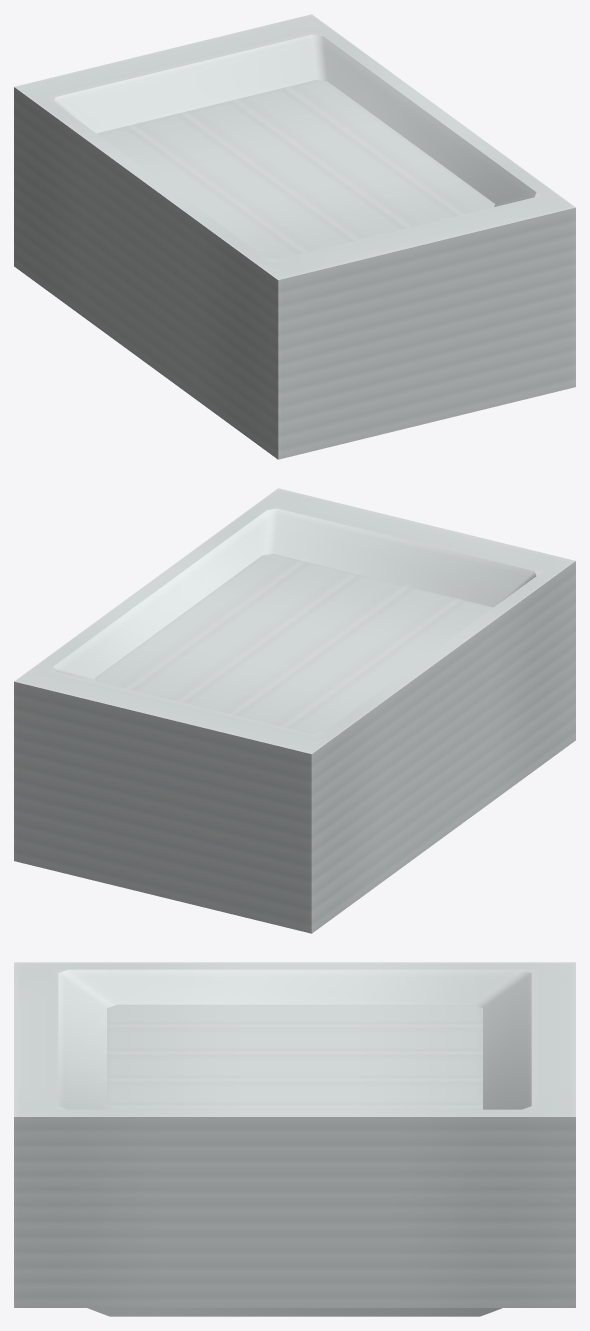
The model's file is jsf_PlasticTray_02_Set.fbx.
3 views of the same model, one above another, from view 1: azimuth 30°, elevation 25°; view 2: azimuth 150°, elevation 25°; view 3: azimuth 270°, elevation 25° (orthographic). The views are drawn at different scales.
Visible parts, largest first — view 1: jsf_PlasticTray_02_Set; view 2: jsf_PlasticTray_02_Set; view 3: jsf_PlasticTray_02_Set.
Boxes of the visible parts, bbox=[...] form: jsf_PlasticTray_02_Set: bbox=[14, 14, 575, 459]; jsf_PlasticTray_02_Set: bbox=[14, 488, 575, 933]; jsf_PlasticTray_02_Set: bbox=[14, 962, 575, 1316].
Size of the model in its own units: 15.63 by 10.2 by 24.01.
